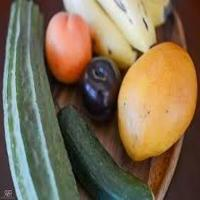biodegradable: (116, 41, 199, 162), (56, 104, 156, 200), (43, 10, 93, 84), (81, 56, 123, 120)
